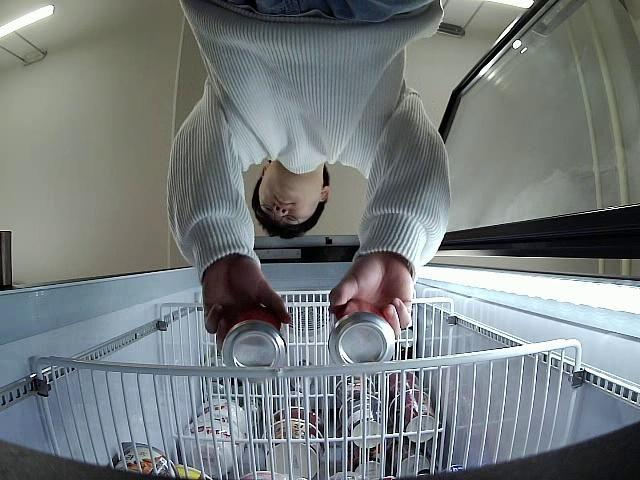11_cocaColaZero: (217, 304, 287, 384), (328, 296, 397, 372)
